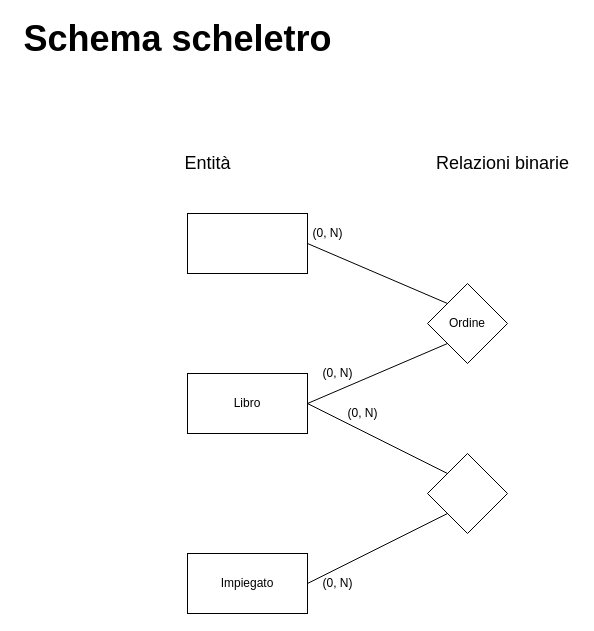
Image size: 594x631. Some labels were removed from this diagram. Each missing label, with the centre of its shape:
"Cliente" belongs at point 247,243.
"Ricarica" belongs at point 467,493.
